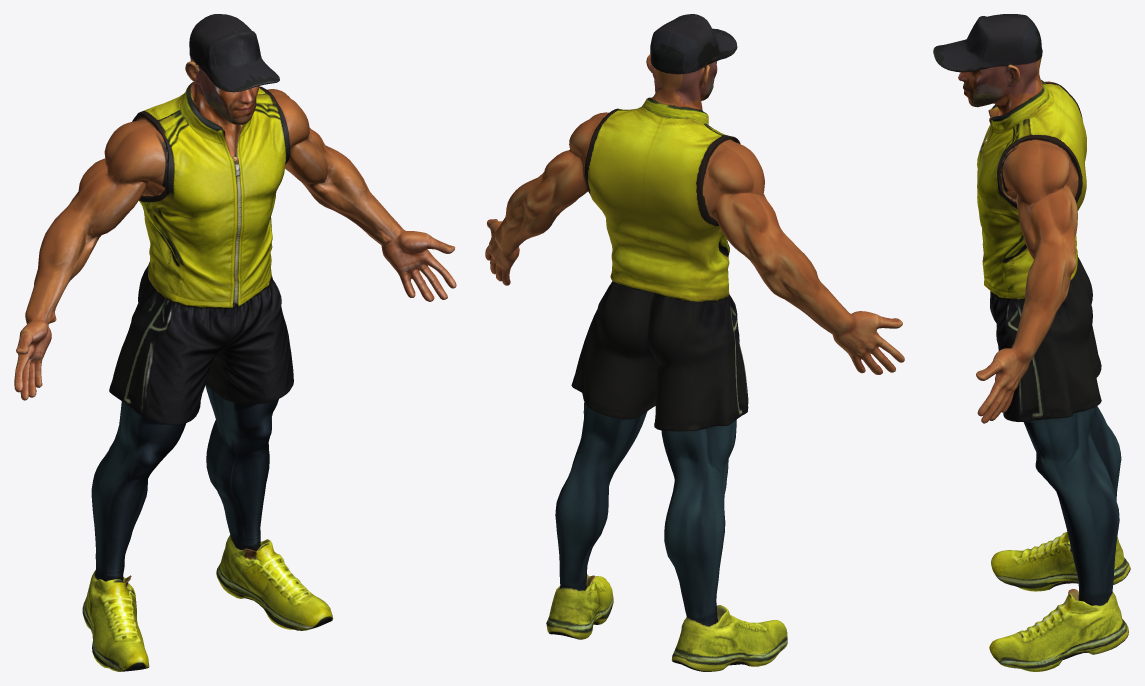
File: jungle-runner_body.glb
The picture shows the model from 3 angles, left to right: view 1: azimuth 30°, elevation 25°; view 2: azimuth 150°, elevation 25°; view 3: azimuth 270°, elevation 25°; orthographic projection. The views are drawn at different scales.
Parts seen in each view (by area): view 1: jungle-runner; view 2: jungle-runner; view 3: jungle-runner.
Boxes of the visible parts, box(x1,y1,x2,y2) form: jungle-runner: box(14, 14, 456, 671); jungle-runner: box(485, 14, 904, 671); jungle-runner: box(933, 14, 1130, 671).
Bounding box in the file's own units: 1.3 × 1.79 × 0.5276.
2 materials, 2 textured.
